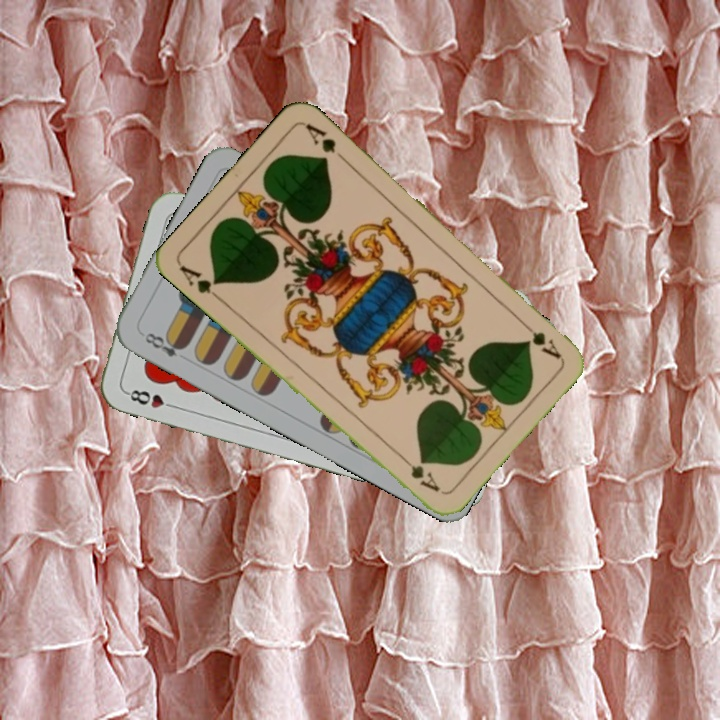E8: (137, 328, 189, 360)
GA: (175, 261, 225, 305), (516, 316, 564, 361)
H8: (122, 385, 180, 411)
